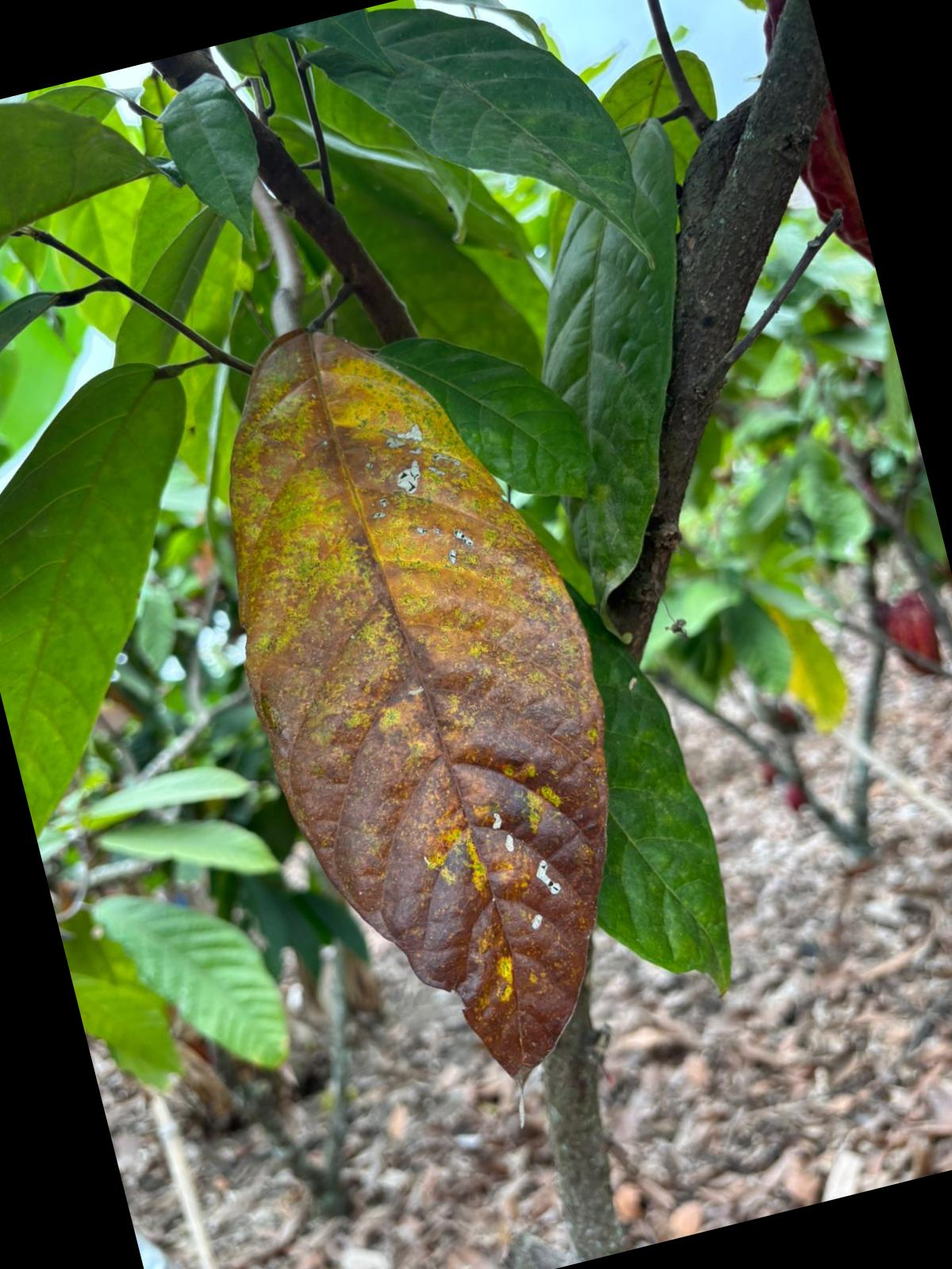Fosforo: (231, 332, 607, 1074)
